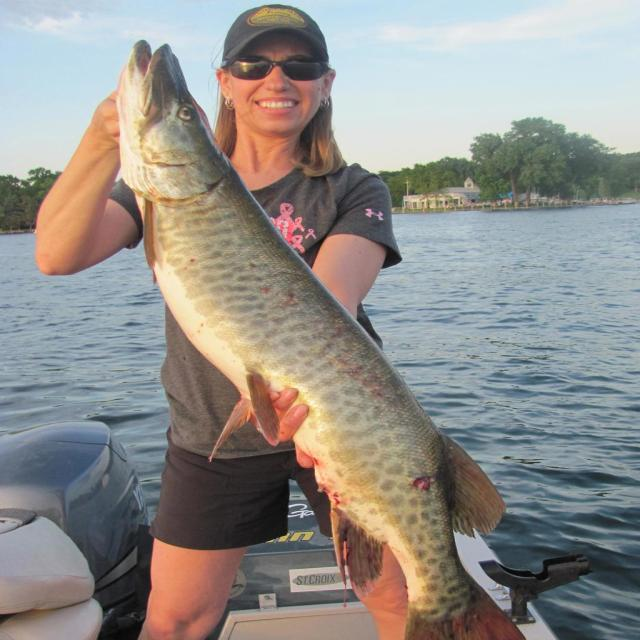Face: (217, 24, 346, 143)
